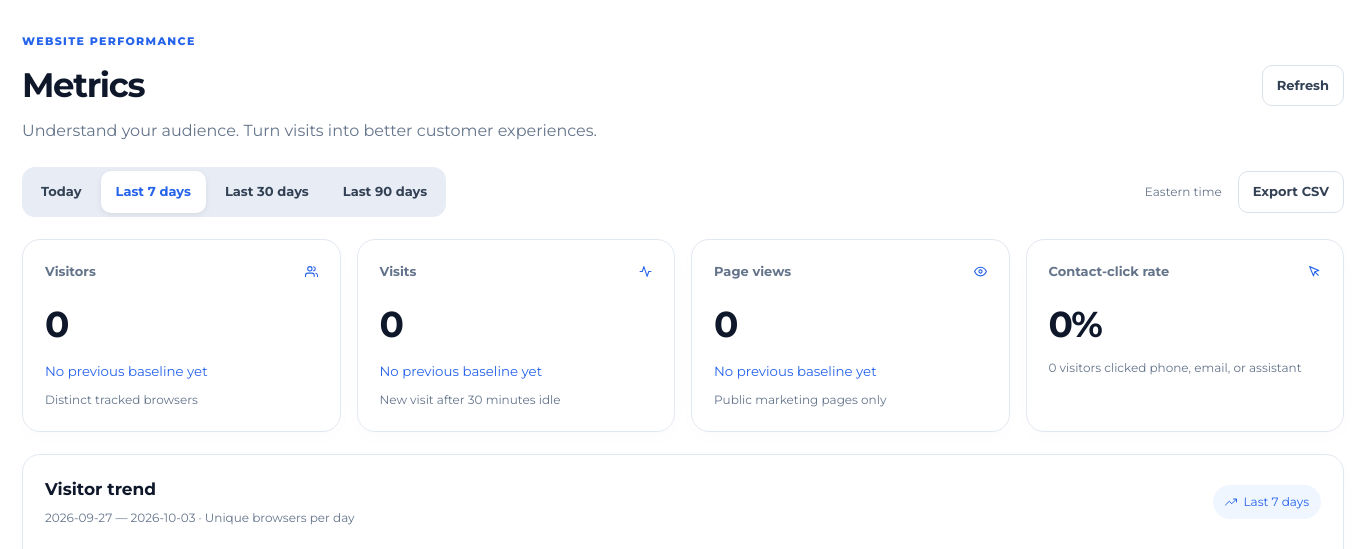
empty metrics explain the collection start and period controls request the selected range
The image size is (1366, 549).
Click the button "Today": (61, 192) [26,171,96,212]
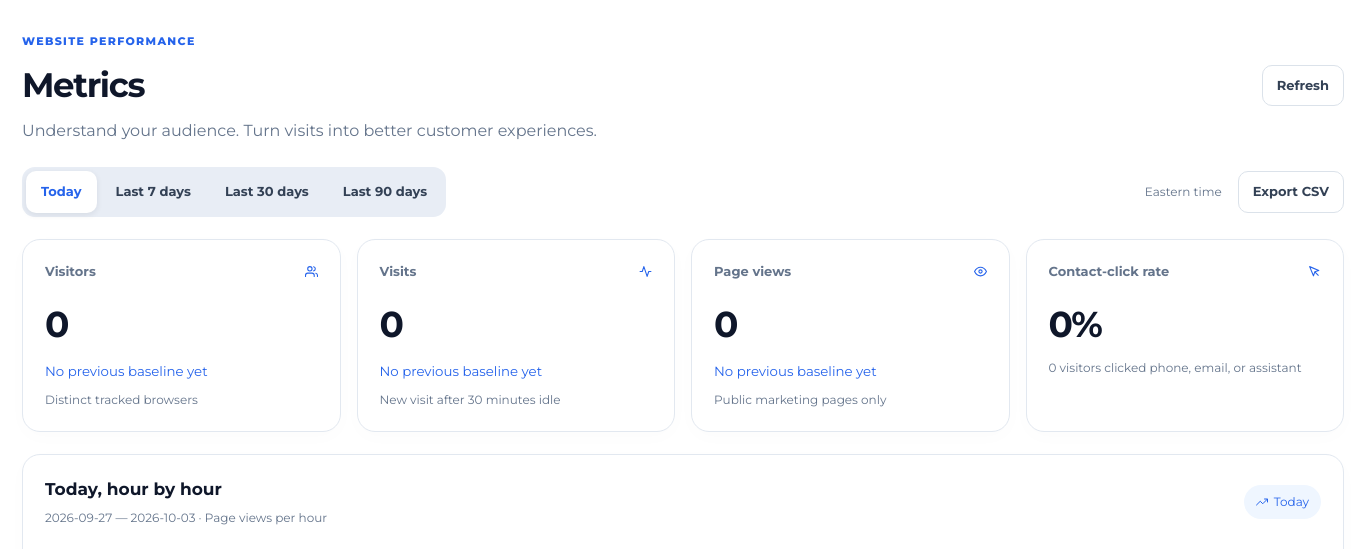
Result: the heading "Today, hour by hour" is shown at [45,479,222,499]
